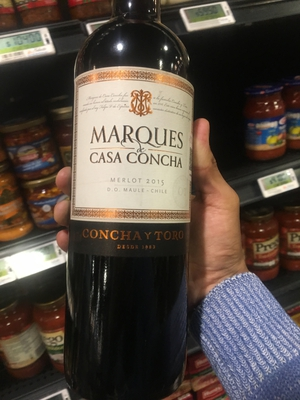marques de casa concha merlot: (73, 18, 225, 373)
